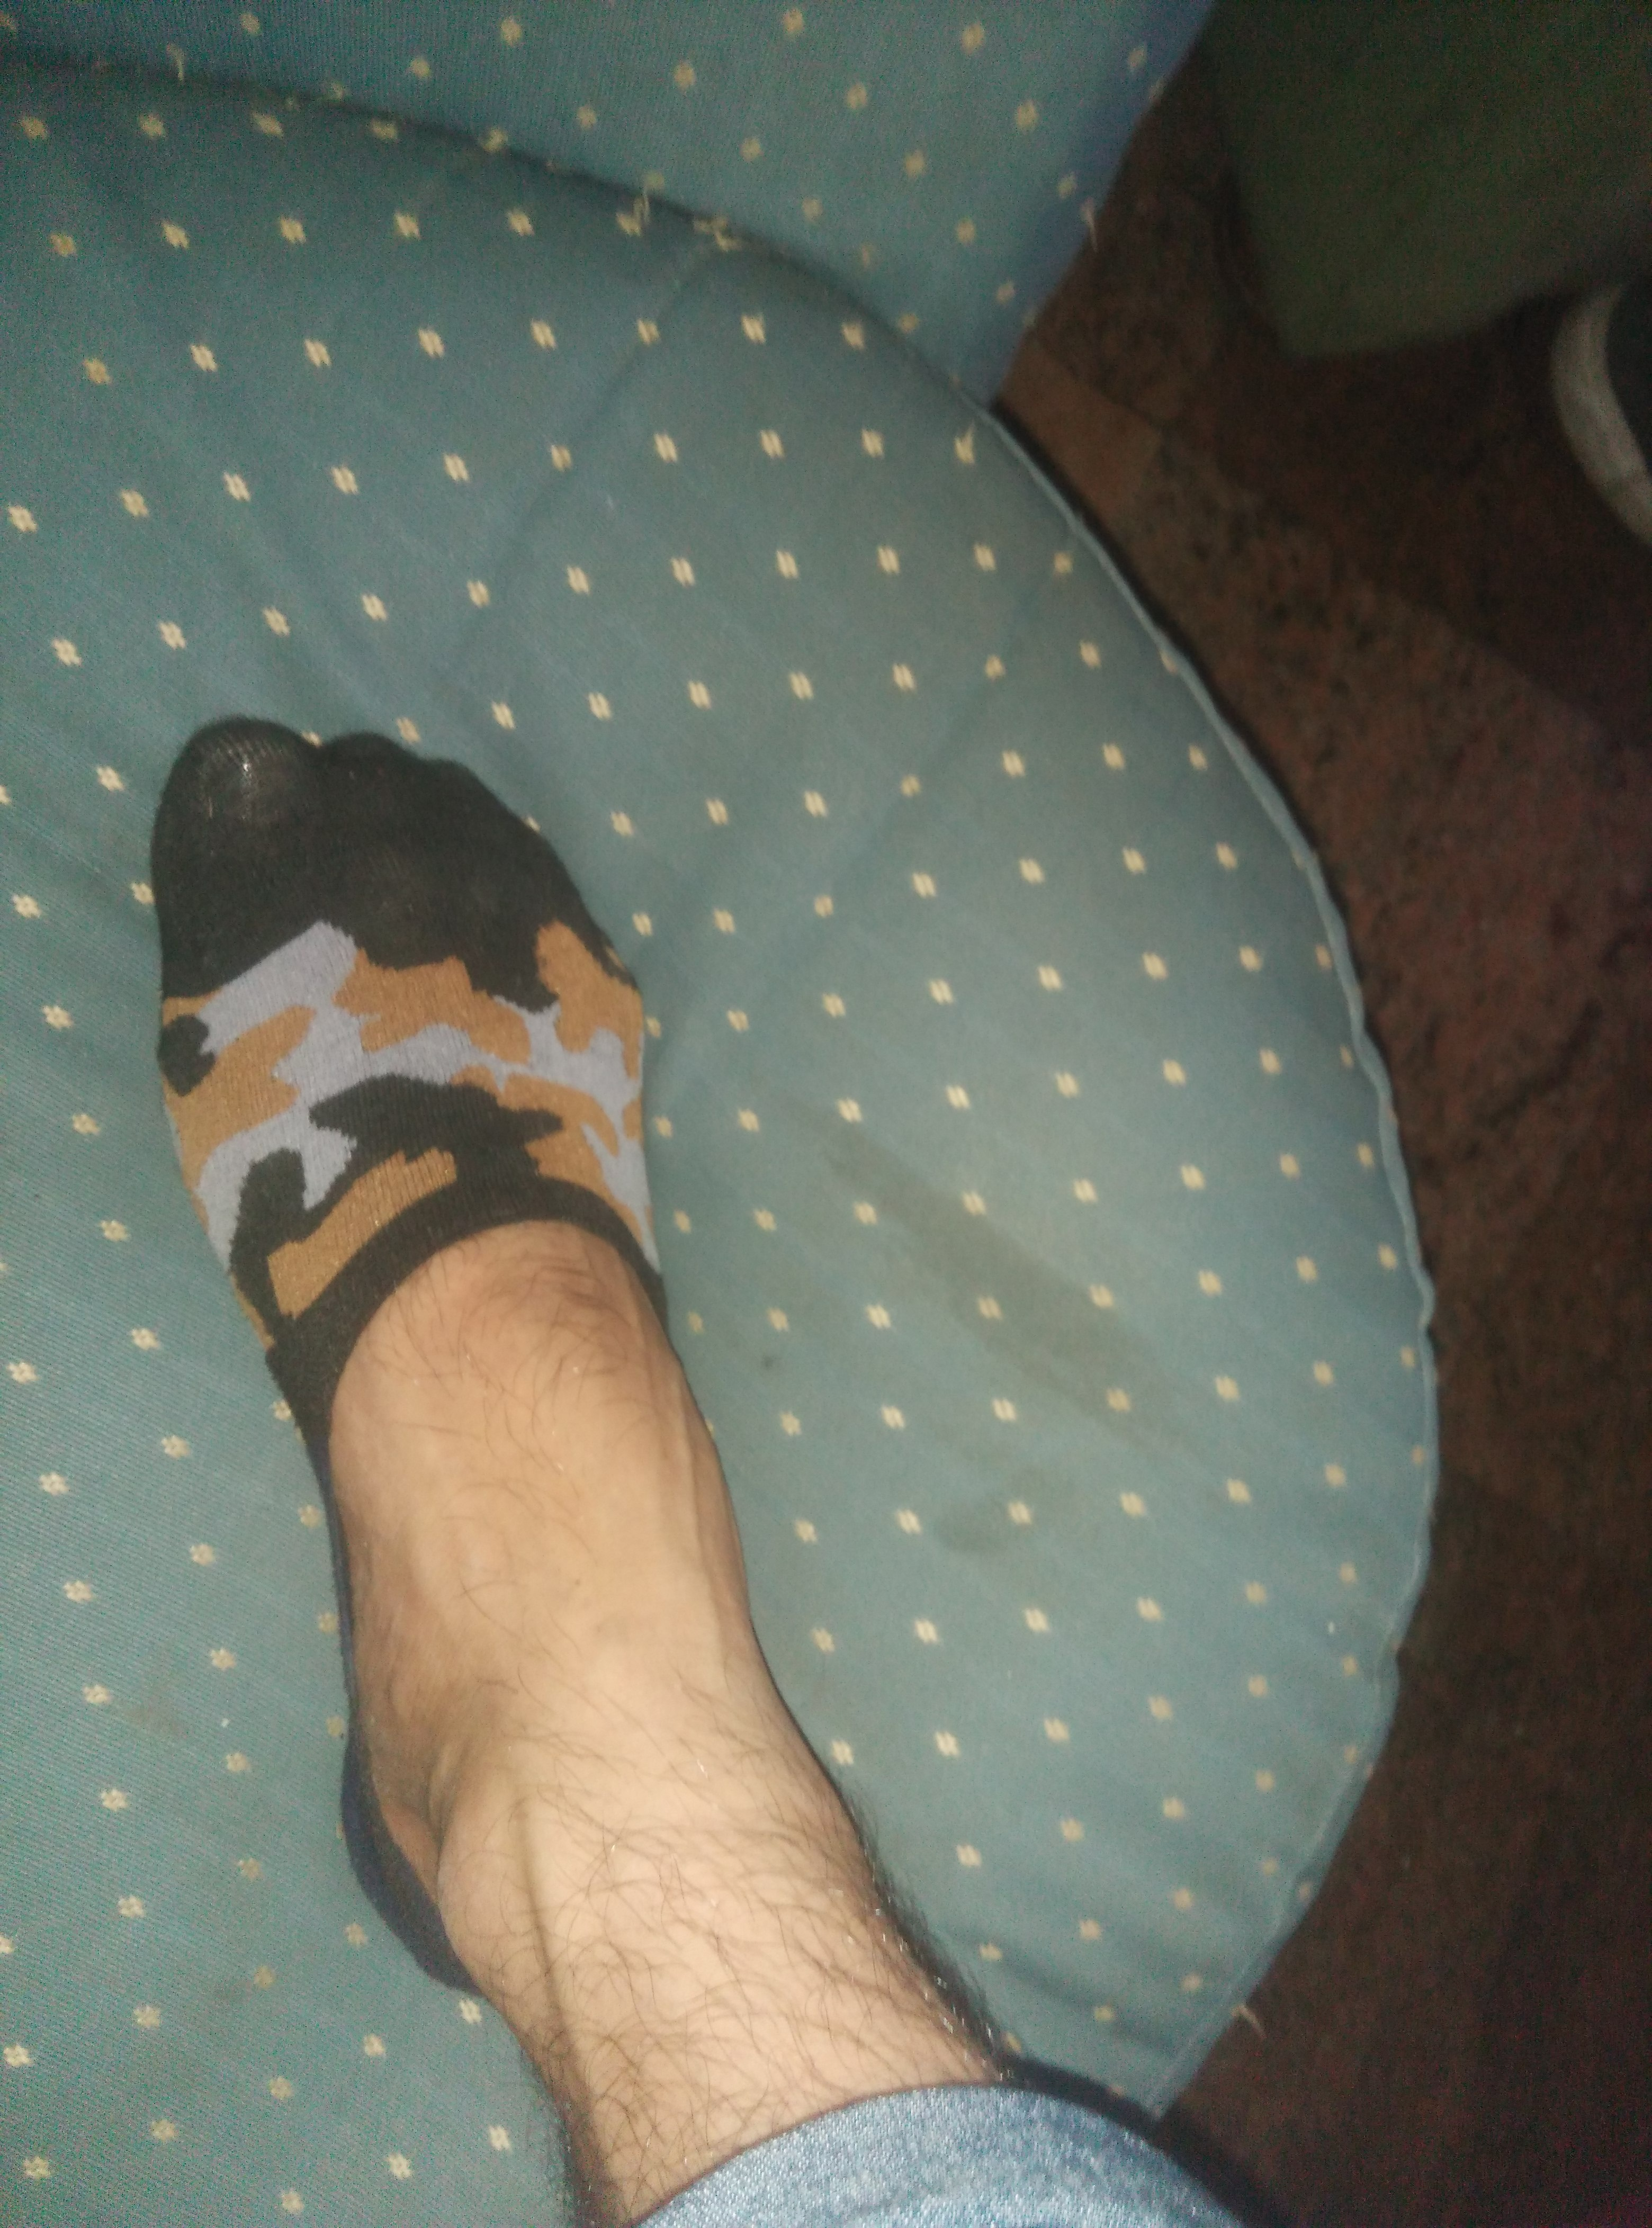feet: (59, 684, 826, 2002)
